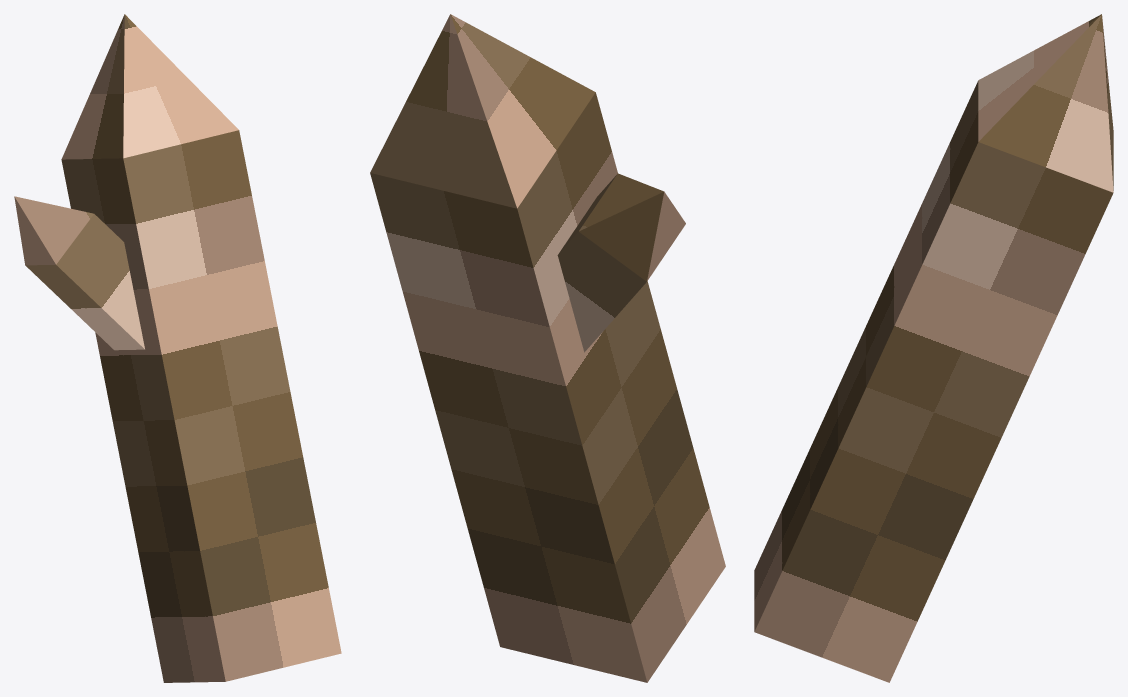
The model's file is iron_0.obj.
The picture shows the model from 3 angles, left to right: view 1: azimuth 30°, elevation 25°; view 2: azimuth 150°, elevation 25°; view 3: azimuth 270°, elevation 25°; orthographic projection. The views are drawn at different scales.
Parts seen in each view (by area): view 1: 0; view 2: 0; view 3: 0.
Boxes of the visible parts, bbox=[...] form: 0: bbox=[14, 14, 341, 682]; 0: bbox=[370, 14, 725, 682]; 0: bbox=[754, 14, 1113, 682].
Size of the model in its own units: 0.2128 by 0.6013 by 0.3068.
